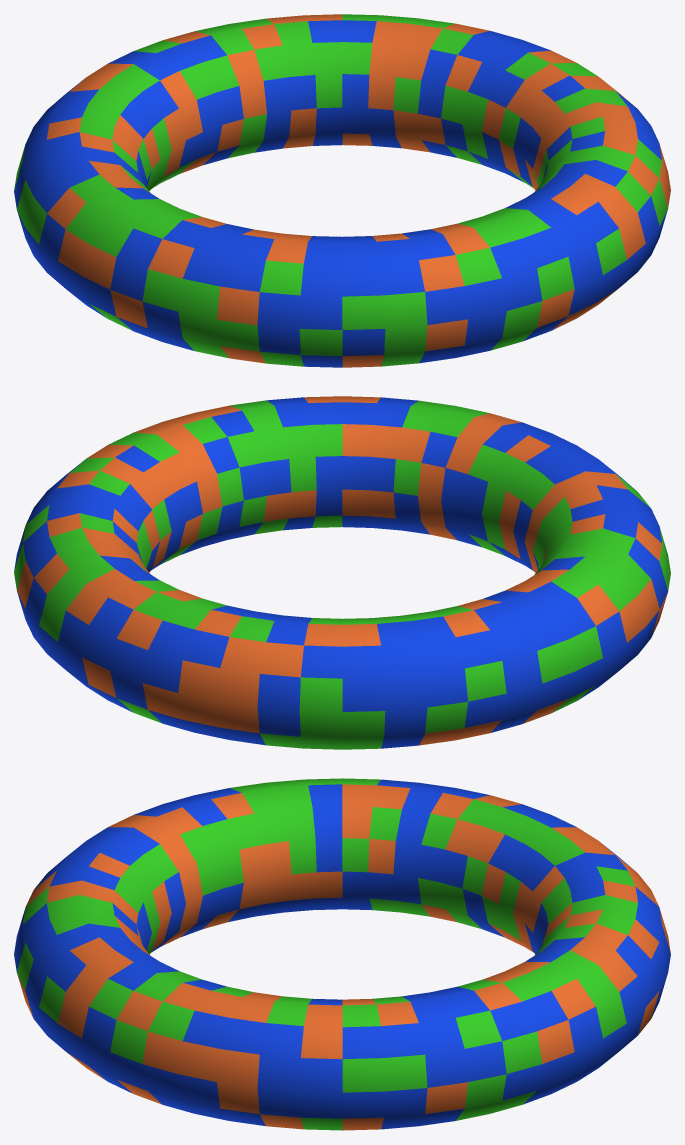
Rendered from character_torus.gltf.
The picture shows the model from 3 angles, top to bottom: view 1: azimuth 30°, elevation 25°; view 2: azimuth 150°, elevation 25°; view 3: azimuth 270°, elevation 25°; orthographic projection.
Parts seen in each view (by area): view 1: Character; view 2: Character; view 3: Character.
Boxes of the visible parts, left/top/right/bottom form: Character: left=14, top=14, right=670, bottom=367; Character: left=14, top=396, right=670, bottom=749; Character: left=14, top=778, right=670, bottom=1130.
Size of what is drawn, in the model's own units: 2.5 by 0.5041 by 2.5.
